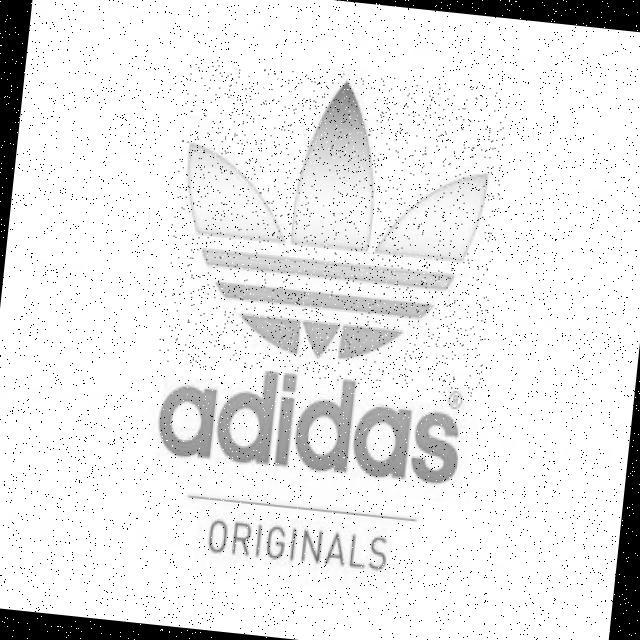Adidas: (157, 56, 512, 397)
